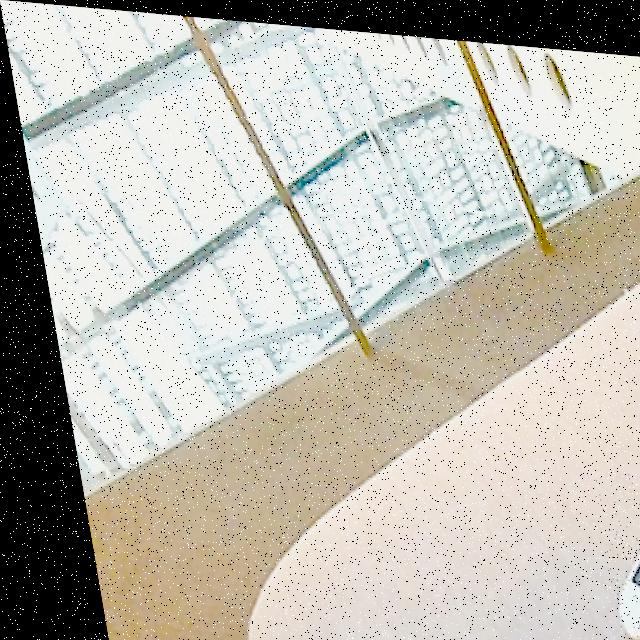adapter: (576, 461, 640, 640)
